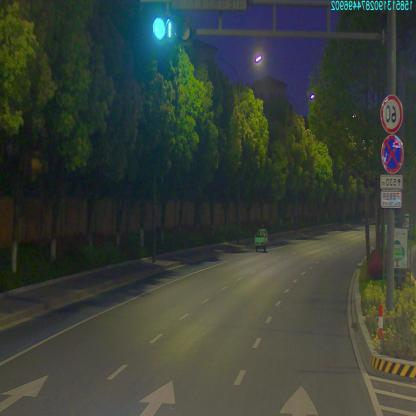traffic-light: (147, 16, 177, 46)
